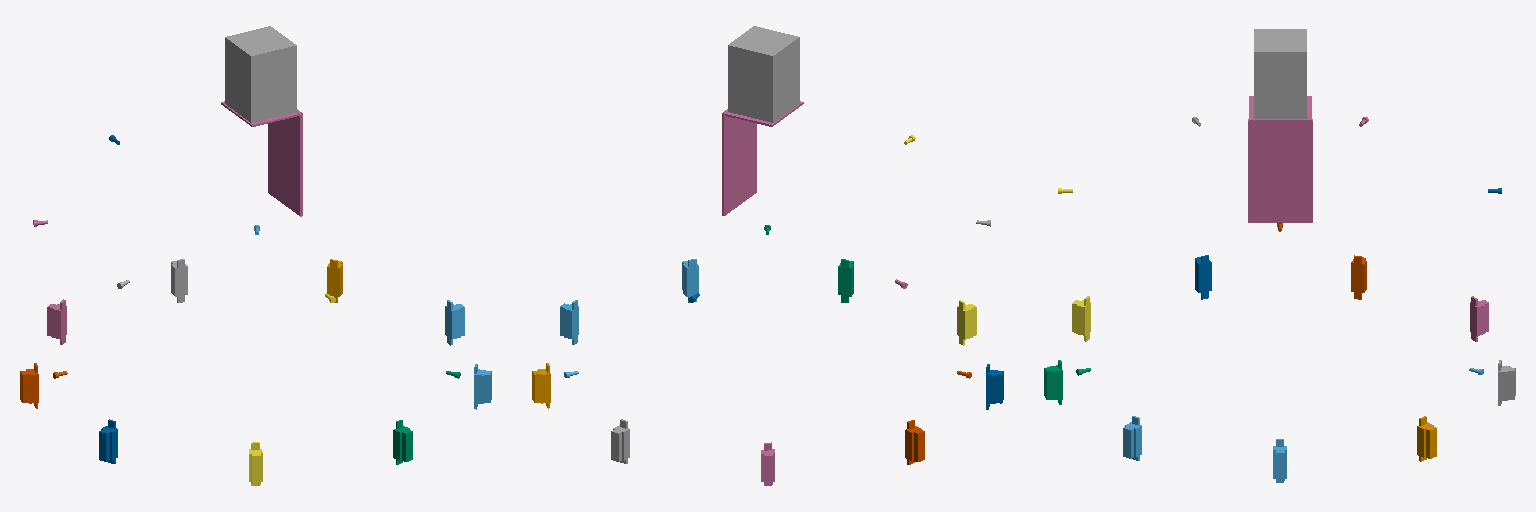
robot.urdf — [local-path]/Robotino3.urdf:
<?xml version="1.0"?>
<robot name="[local-path]/Robotino3.urdf" xmlns:xacro="http://ros.org/wiki/xacro">
  <link name="base_link">
    <visual>
      <origin xyz="0.01 0 0" rpy="0 0 1.5708"/>
      <geometry>
        <mesh filename="package://rto_description/meshes/parts/robotino_base.dae" scale="0.01 0.01 0.01"/>
      </geometry>
    </visual>
    <collision>
      <origin xyz="0 0 0.153" rpy="0 0 0"/>
      <geometry>
        <cylinder radius="0.2266" length="0.276"/>
      </geometry>
    </collision>
  </link>
  <link name="cap screw(6)">
    <visual>
      <origin xyz="0.005 0 0" rpy="3.141593 1.570793 3.141593"/>
      <geometry>
        <cylinder radius="0.0018" length="0.01"/>
      </geometry>
    </visual>
    <collision>
      <origin xyz="0.005 0 0" rpy="3.141593 1.570793 3.141593"/>
      <geometry>
        <cylinder radius="0.0018" length="0.01"/>
      </geometry>
    </collision>
    <visual>
      <origin xyz="-0.0018 0 0" rpy="3.141593 1.570793 3.141593"/>
      <geometry>
        <cylinder radius="0.003" length="0.0036"/>
      </geometry>
    </visual>
    <collision>
      <origin xyz="-0.0018 0 0" rpy="3.141593 1.570793 3.141593"/>
      <geometry>
        <cylinder radius="0.003" length="0.0036"/>
      </geometry>
    </collision>
  </link>
  <joint name="base_link_cap screw(6)_joint" type="fixed">
    <parent link="base_link"/>
    <child link="cap screw(6)"/>
    <origin xyz="0.1097 0.189 0.092" rpy="0.000008 -0.000002 -2.094393"/>
  </joint>
  <link name="cap screw(5)">
    <visual>
      <origin xyz="0.005 0 0" rpy="3.141593 1.570793 3.141593"/>
      <geometry>
        <cylinder radius="0.0018" length="0.01"/>
      </geometry>
    </visual>
    <collision>
      <origin xyz="0.005 0 0" rpy="3.141593 1.570793 3.141593"/>
      <geometry>
        <cylinder radius="0.0018" length="0.01"/>
      </geometry>
    </collision>
    <visual>
      <origin xyz="-0.0018 0 0" rpy="3.141593 1.570793 3.141593"/>
      <geometry>
        <cylinder radius="0.003" length="0.0036"/>
      </geometry>
    </visual>
    <collision>
      <origin xyz="-0.0018 0 0" rpy="3.141593 1.570793 3.141593"/>
      <geometry>
        <cylinder radius="0.003" length="0.0036"/>
      </geometry>
    </collision>
  </link>
  <joint name="base_link_cap screw(5)_joint" type="fixed">
    <parent link="base_link"/>
    <child link="cap screw(5)"/>
    <origin xyz="0.1097 -0.189 0.092" rpy="0.000002 0.000003 2.094393"/>
  </joint>
  <link name="cap screw(4)">
    <visual>
      <origin xyz="0.005 0 0" rpy="3.141593 1.570793 3.141593"/>
      <geometry>
        <cylinder radius="0.0018" length="0.01"/>
      </geometry>
    </visual>
    <collision>
      <origin xyz="0.005 0 0" rpy="3.141593 1.570793 3.141593"/>
      <geometry>
        <cylinder radius="0.0018" length="0.01"/>
      </geometry>
    </collision>
    <visual>
      <origin xyz="-0.0018 0 0" rpy="3.141593 1.570793 3.141593"/>
      <geometry>
        <cylinder radius="0.003" length="0.0036"/>
      </geometry>
    </visual>
    <collision>
      <origin xyz="-0.0018 0 0" rpy="3.141593 1.570793 3.141593"/>
      <geometry>
        <cylinder radius="0.003" length="0.0036"/>
      </geometry>
    </collision>
  </link>
  <joint name="base_link_cap screw(4)_joint" type="fixed">
    <parent link="base_link"/>
    <child link="cap screw(4)"/>
    <origin xyz="-0.0372 -0.207 0.213" rpy="0 0 1.570796"/>
  </joint>
  <link name="cap screw(3)">
    <visual>
      <origin xyz="0.005 0 0" rpy="3.141593 1.570793 3.141593"/>
      <geometry>
        <cylinder radius="0.0018" length="0.01"/>
      </geometry>
    </visual>
    <collision>
      <origin xyz="0.005 0 0" rpy="3.141593 1.570793 3.141593"/>
      <geometry>
        <cylinder radius="0.0018" length="0.01"/>
      </geometry>
    </collision>
    <visual>
      <origin xyz="-0.0018 0 0" rpy="3.141593 1.570793 3.141593"/>
      <geometry>
        <cylinder radius="0.003" length="0.0036"/>
      </geometry>
    </visual>
    <collision>
      <origin xyz="-0.0018 0 0" rpy="3.141593 1.570793 3.141593"/>
      <geometry>
        <cylinder radius="0.003" length="0.0036"/>
      </geometry>
    </collision>
  </link>
  <joint name="base_link_cap screw(3)_joint" type="fixed">
    <parent link="base_link"/>
    <child link="cap screw(3)"/>
    <origin xyz="-0.0372 0.207 0.213" rpy="3.141593 0.000008 -1.570796"/>
  </joint>
  <link name="cap screw(2)">
    <visual>
      <origin xyz="0.005 0 0" rpy="3.141593 1.570793 3.141593"/>
      <geometry>
        <cylinder radius="0.0018" length="0.01"/>
      </geometry>
    </visual>
    <collision>
      <origin xyz="0.005 0 0" rpy="3.141593 1.570793 3.141593"/>
      <geometry>
        <cylinder radius="0.0018" length="0.01"/>
      </geometry>
    </collision>
    <visual>
      <origin xyz="-0.0018 0 0" rpy="3.141593 1.570793 3.141593"/>
      <geometry>
        <cylinder radius="0.003" length="0.0036"/>
      </geometry>
    </visual>
    <collision>
      <origin xyz="-0.0018 0 0" rpy="3.141593 1.570793 3.141593"/>
      <geometry>
        <cylinder radius="0.003" length="0.0036"/>
      </geometry>
    </collision>
  </link>
  <joint name="base_link_cap screw(2)_joint" type="fixed">
    <parent link="base_link"/>
    <child link="cap screw(2)"/>
    <origin xyz="-0.2183 0 0.092" rpy="1.570796 0.000003 -0.000003"/>
  </joint>
  <link name="cap screw(1)">
    <visual>
      <origin xyz="0.005 0 0" rpy="3.141593 1.570793 3.141593"/>
      <geometry>
        <cylinder radius="0.0018" length="0.01"/>
      </geometry>
    </visual>
    <collision>
      <origin xyz="0.005 0 0" rpy="3.141593 1.570793 3.141593"/>
      <geometry>
        <cylinder radius="0.0018" length="0.01"/>
      </geometry>
    </collision>
    <visual>
      <origin xyz="-0.0018 0 0" rpy="3.141593 1.570793 3.141593"/>
      <geometry>
        <cylinder radius="0.003" length="0.0036"/>
      </geometry>
    </visual>
    <collision>
      <origin xyz="-0.0018 0 0" rpy="3.141593 1.570793 3.141593"/>
      <geometry>
        <cylinder radius="0.003" length="0.0036"/>
      </geometry>
    </collision>
  </link>
  <joint name="base_link_cap screw(1)_joint" type="fixed">
    <parent link="base_link"/>
    <child link="cap screw(1)"/>
    <origin xyz="-0.194 0.08 0.213" rpy="-1.662276 -0.01634 -0.353273"/>
  </joint>
  <link name="cap screw">
    <visual>
      <origin xyz="0.005 0 0" rpy="3.141593 1.570793 3.141593"/>
      <geometry>
        <cylinder radius="0.0018" length="0.01"/>
      </geometry>
    </visual>
    <collision>
      <origin xyz="0.005 0 0" rpy="3.141593 1.570793 3.141593"/>
      <geometry>
        <cylinder radius="0.0018" length="0.01"/>
      </geometry>
    </collision>
    <visual>
      <origin xyz="-0.0018 0 0" rpy="3.141593 1.570793 3.141593"/>
      <geometry>
        <cylinder radius="0.003" length="0.0036"/>
      </geometry>
    </visual>
    <collision>
      <origin xyz="-0.0018 0 0" rpy="3.141593 1.570793 3.141593"/>
      <geometry>
        <cylinder radius="0.003" length="0.0036"/>
      </geometry>
    </collision>
  </link>
  <joint name="base_link_cap screw_joint" type="fixed">
    <parent link="base_link"/>
    <child link="cap screw"/>
    <origin xyz="-0.194 -0.08 0.213" rpy="-1.479317 -0.01634 0.35328"/>
  </joint>
  <link name="touch sensor">
  </link>
  <joint name="base_link_touch sensor_joint" type="fixed">
    <parent link="base_link"/>
    <child link="touch sensor"/>
    <origin xyz="0 0 0.035" rpy="0 0 1.570796"/>
  </joint>
  <link name="ir9">
    <visual>
      <origin xyz="-0.0052 -0.0102 0" rpy="0 0 0"/>
      <geometry>
        <box size="0.01 0.03 0.0087"/>
      </geometry>
    </visual>
    <collision>
      <origin xyz="-0.0052 -0.0102 0" rpy="0 0 0"/>
      <geometry>
        <box size="0.01 0.03 0.0087"/>
      </geometry>
    </collision>
    <visual>
      <origin xyz="-0.0109 -0.0102 0" rpy="0 0 0"/>
      <geometry>
        <box size="0.0094 0.03 0.0131"/>
      </geometry>
    </visual>
    <collision>
      <origin xyz="-0.0109 -0.0102 0" rpy="0 0 0"/>
      <geometry>
        <box size="0.0094 0.03 0.0131"/>
      </geometry>
    </collision>
    <visual>
      <origin xyz="-0.0144 -0.0102 0" rpy="0 0 0"/>
      <geometry>
        <box size="0.0023 0.0445 0.0077"/>
      </geometry>
    </visual>
    <collision>
      <origin xyz="-0.0144 -0.0102 0" rpy="0 0 0"/>
      <geometry>
        <box size="0.0023 0.0445 0.0077"/>
      </geometry>
    </collision>
  </link>
  <joint name="base_link_ir9_joint" type="fixed">
    <parent link="base_link"/>
    <child link="ir9"/>
    <origin xyz="0.1735 -0.1455 0.0566" rpy="1.570796 0 -0.639973"/>
  </joint>
  <link name="ir8">
    <visual>
      <origin xyz="-0.0052 -0.0102 0" rpy="0 0 0"/>
      <geometry>
        <box size="0.01 0.03 0.0087"/>
      </geometry>
    </visual>
    <collision>
      <origin xyz="-0.0052 -0.0102 0" rpy="0 0 0"/>
      <geometry>
        <box size="0.01 0.03 0.0087"/>
      </geometry>
    </collision>
    <visual>
      <origin xyz="-0.0109 -0.0102 0" rpy="0 0 0"/>
      <geometry>
        <box size="0.0094 0.03 0.0131"/>
      </geometry>
    </visual>
    <collision>
      <origin xyz="-0.0109 -0.0102 0" rpy="0 0 0"/>
      <geometry>
        <box size="0.0094 0.03 0.0131"/>
      </geometry>
    </collision>
    <visual>
      <origin xyz="-0.0144 -0.0102 0" rpy="0 0 0"/>
      <geometry>
        <box size="0.0023 0.0445 0.0077"/>
      </geometry>
    </visual>
    <collision>
      <origin xyz="-0.0144 -0.0102 0" rpy="0 0 0"/>
      <geometry>
        <box size="0.0023 0.0445 0.0077"/>
      </geometry>
    </collision>
  </link>
  <joint name="base_link_ir8_joint" type="fixed">
    <parent link="base_link"/>
    <child link="ir8"/>
    <origin xyz="0.0394 -0.2229 0.0566" rpy="1.570796 0 -1.3381"/>
  </joint>
  <link name="ir7">
    <visual>
      <origin xyz="-0.0052 -0.0102 0" rpy="0 0 0"/>
      <geometry>
        <box size="0.01 0.03 0.0087"/>
      </geometry>
    </visual>
    <collision>
      <origin xyz="-0.0052 -0.0102 0" rpy="0 0 0"/>
      <geometry>
        <box size="0.01 0.03 0.0087"/>
      </geometry>
    </collision>
    <visual>
      <origin xyz="-0.0109 -0.0102 0" rpy="0 0 0"/>
      <geometry>
        <box size="0.0094 0.03 0.0131"/>
      </geometry>
    </visual>
    <collision>
      <origin xyz="-0.0109 -0.0102 0" rpy="0 0 0"/>
      <geometry>
        <box size="0.0094 0.03 0.0131"/>
      </geometry>
    </collision>
    <visual>
      <origin xyz="-0.0144 -0.0102 0" rpy="0 0 0"/>
      <geometry>
        <box size="0.0023 0.0445 0.0077"/>
      </geometry>
    </visual>
    <collision>
      <origin xyz="-0.0144 -0.0102 0" rpy="0 0 0"/>
      <geometry>
        <box size="0.0023 0.0445 0.0077"/>
      </geometry>
    </collision>
  </link>
  <joint name="base_link_ir7_joint" type="fixed">
    <parent link="base_link"/>
    <child link="ir7"/>
    <origin xyz="-0.1133 -0.196 0.0566" rpy="1.570797 -0.000001 -2.036229"/>
  </joint>
  <link name="ir6">
    <visual>
      <origin xyz="-0.0052 -0.0102 0" rpy="0 0 0"/>
      <geometry>
        <box size="0.01 0.03 0.0087"/>
      </geometry>
    </visual>
    <collision>
      <origin xyz="-0.0052 -0.0102 0" rpy="0 0 0"/>
      <geometry>
        <box size="0.01 0.03 0.0087"/>
      </geometry>
    </collision>
    <visual>
      <origin xyz="-0.0109 -0.0102 0" rpy="0 0 0"/>
      <geometry>
        <box size="0.0094 0.03 0.0131"/>
      </geometry>
    </visual>
    <collision>
      <origin xyz="-0.0109 -0.0102 0" rpy="0 0 0"/>
      <geometry>
        <box size="0.0094 0.03 0.0131"/>
      </geometry>
    </collision>
    <visual>
      <origin xyz="-0.0144 -0.0102 0" rpy="0 0 0"/>
      <geometry>
        <box size="0.0023 0.0445 0.0077"/>
      </geometry>
    </visual>
    <collision>
      <origin xyz="-0.0144 -0.0102 0" rpy="0 0 0"/>
      <geometry>
        <box size="0.0023 0.0445 0.0077"/>
      </geometry>
    </collision>
  </link>
  <joint name="base_link_ir6_joint" type="fixed">
    <parent link="base_link"/>
    <child link="ir6"/>
    <origin xyz="-0.2133 -0.0772 0.0566" rpy="1.570796 0 -2.734369"/>
  </joint>
  <link name="ir5">
    <visual>
      <origin xyz="-0.0052 -0.0102 0" rpy="0 0 0"/>
      <geometry>
        <box size="0.01 0.03 0.0087"/>
      </geometry>
    </visual>
    <collision>
      <origin xyz="-0.0052 -0.0102 0" rpy="0 0 0"/>
      <geometry>
        <box size="0.01 0.03 0.0087"/>
      </geometry>
    </collision>
    <visual>
      <origin xyz="-0.0109 -0.0102 0" rpy="0 0 0"/>
      <geometry>
        <box size="0.0094 0.03 0.0131"/>
      </geometry>
    </visual>
    <collision>
      <origin xyz="-0.0109 -0.0102 0" rpy="0 0 0"/>
      <geometry>
        <box size="0.0094 0.03 0.0131"/>
      </geometry>
    </collision>
    <visual>
      <origin xyz="-0.0144 -0.0102 0" rpy="0 0 0"/>
      <geometry>
        <box size="0.0023 0.0445 0.0077"/>
      </geometry>
    </visual>
    <collision>
      <origin xyz="-0.0144 -0.0102 0" rpy="0 0 0"/>
      <geometry>
        <box size="0.0023 0.0445 0.0077"/>
      </geometry>
    </collision>
  </link>
  <joint name="base_link_ir5_joint" type="fixed">
    <parent link="base_link"/>
    <child link="ir5"/>
    <origin xyz="-0.2131 0.0777 0.0566" rpy="1.570796 0 2.850685"/>
  </joint>
  <link name="ir4">
    <visual>
      <origin xyz="-0.0052 -0.0102 0" rpy="0 0 0"/>
      <geometry>
        <box size="0.01 0.03 0.0087"/>
      </geometry>
    </visual>
    <collision>
      <origin xyz="-0.0052 -0.0102 0" rpy="0 0 0"/>
      <geometry>
        <box size="0.01 0.03 0.0087"/>
      </geometry>
    </collision>
    <visual>
      <origin xyz="-0.0109 -0.0102 0" rpy="0 0 0"/>
      <geometry>
        <box size="0.0094 0.03 0.0131"/>
      </geometry>
    </visual>
    <collision>
      <origin xyz="-0.0109 -0.0102 0" rpy="0 0 0"/>
      <geometry>
        <box size="0.0094 0.03 0.0131"/>
      </geometry>
    </collision>
    <visual>
      <origin xyz="-0.0144 -0.0102 0" rpy="0 0 0"/>
      <geometry>
        <box size="0.0023 0.0445 0.0077"/>
      </geometry>
    </visual>
    <collision>
      <origin xyz="-0.0144 -0.0102 0" rpy="0 0 0"/>
      <geometry>
        <box size="0.0023 0.0445 0.0077"/>
      </geometry>
    </collision>
  </link>
  <joint name="base_link_ir4_joint" type="fixed">
    <parent link="base_link"/>
    <child link="ir4"/>
    <origin xyz="-0.114 0.1963 0.0566" rpy="1.570796 0 2.152557"/>
  </joint>
  <link name="ir3">
    <visual>
      <origin xyz="-0.0052 -0.0102 0" rpy="0 0 0"/>
      <geometry>
        <box size="0.01 0.03 0.0087"/>
      </geometry>
    </visual>
    <collision>
      <origin xyz="-0.0052 -0.0102 0" rpy="0 0 0"/>
      <geometry>
        <box size="0.01 0.03 0.0087"/>
      </geometry>
    </collision>
    <visual>
      <origin xyz="-0.0109 -0.0102 0" rpy="0 0 0"/>
      <geometry>
        <box size="0.0094 0.03 0.0131"/>
      </geometry>
    </visual>
    <collision>
      <origin xyz="-0.0109 -0.0102 0" rpy="0 0 0"/>
      <geometry>
        <box size="0.0094 0.03 0.0131"/>
      </geometry>
    </collision>
    <visual>
      <origin xyz="-0.0144 -0.0102 0" rpy="0 0 0"/>
      <geometry>
        <box size="0.0023 0.0445 0.0077"/>
      </geometry>
    </visual>
    <collision>
      <origin xyz="-0.0144 -0.0102 0" rpy="0 0 0"/>
      <geometry>
        <box size="0.0023 0.0445 0.0077"/>
      </geometry>
    </collision>
  </link>
  <joint name="base_link_ir3_joint" type="fixed">
    <parent link="base_link"/>
    <child link="ir3"/>
    <origin xyz="0.0394 0.223 0.0566" rpy="1.570796 0 1.454421"/>
  </joint>
  <link name="ir2">
    <visual>
      <origin xyz="-0.0052 -0.0102 0" rpy="0 0 0"/>
      <geometry>
        <box size="0.01 0.03 0.0087"/>
      </geometry>
    </visual>
    <collision>
      <origin xyz="-0.0052 -0.0102 0" rpy="0 0 0"/>
      <geometry>
        <box size="0.01 0.03 0.0087"/>
      </geometry>
    </collision>
    <visual>
      <origin xyz="-0.0109 -0.0102 0" rpy="0 0 0"/>
      <geometry>
        <box size="0.0094 0.03 0.0131"/>
      </geometry>
    </visual>
    <collision>
      <origin xyz="-0.0109 -0.0102 0" rpy="0 0 0"/>
      <geometry>
        <box size="0.0094 0.03 0.0131"/>
      </geometry>
    </collision>
    <visual>
      <origin xyz="-0.0144 -0.0102 0" rpy="0 0 0"/>
      <geometry>
        <box size="0.0023 0.0445 0.0077"/>
      </geometry>
    </visual>
    <collision>
      <origin xyz="-0.0144 -0.0102 0" rpy="0 0 0"/>
      <geometry>
        <box size="0.0023 0.0445 0.0077"/>
      </geometry>
    </collision>
  </link>
  <joint name="base_link_ir2_joint" type="fixed">
    <parent link="base_link"/>
    <child link="ir2"/>
    <origin xyz="0.1736 0.1454 0.0566" rpy="1.570797 0 0.756286"/>
  </joint>
  <link name="ir1">
    <visual>
      <origin xyz="-0.0052 -0.0102 0" rpy="0 0 0"/>
      <geometry>
        <box size="0.01 0.03 0.0087"/>
      </geometry>
    </visual>
    <collision>
      <origin xyz="-0.0052 -0.0102 0" rpy="0 0 0"/>
      <geometry>
        <box size="0.01 0.03 0.0087"/>
      </geometry>
    </collision>
    <visual>
      <origin xyz="-0.0109 -0.0102 0" rpy="0 0 0"/>
      <geometry>
        <box size="0.0094 0.03 0.0131"/>
      </geometry>
    </visual>
    <collision>
      <origin xyz="-0.0109 -0.0102 0" rpy="0 0 0"/>
      <geometry>
        <box size="0.0094 0.03 0.0131"/>
      </geometry>
    </collision>
    <visual>
      <origin xyz="-0.0144 -0.0102 0" rpy="0 0 0"/>
      <geometry>
        <box size="0.0023 0.0445 0.0077"/>
      </geometry>
    </visual>
    <collision>
      <origin xyz="-0.0144 -0.0102 0" rpy="0 0 0"/>
      <geometry>
        <box size="0.0023 0.0445 0.0077"/>
      </geometry>
    </collision>
  </link>
  <joint name="base_link_ir1_joint" type="fixed">
    <parent link="base_link"/>
    <child link="ir1"/>
    <origin xyz="0.2264 0 0.0566" rpy="1.570797 0.000001 -0.000123"/>
  </joint>
  <link name="compass">
  </link>
  <joint name="base_link_compass_joint" type="fixed">
    <parent link="base_link"/>
    <child link="compass"/>
    <origin xyz="0 0 0" rpy="0 0 1.570796"/>
  </joint>
  <link name="gyro">
  </link>
  <joint name="base_link_gyro_joint" type="fixed">
    <parent link="base_link"/>
    <child link="gyro"/>
    <origin xyz="0 0 0" rpy="0 0 1.570796"/>
  </joint>
  <link name="inertial unit">
  </link>
  <joint name="base_link_inertial unit_joint" type="fixed">
    <parent link="base_link"/>
    <child link="inertial unit"/>
    <origin xyz="0 0 0" rpy="0 0 1.570796"/>
  </joint>
  <link name="accelerometer">
  </link>
  <joint name="base_link_accelerometer_joint" type="fixed">
    <parent link="base_link"/>
    <child link="accelerometer"/>
    <origin xyz="0 0 0" rpy="0 0 1.570796"/>
  </joint>
  <link name="Hokuyo mounting support for Robotino 3">
    <visual>
      <origin xyz="-0.027 0.03 0.106" rpy="0 0 0"/>
      <geometry>
        <box size="0.055 0.06 0.002"/>
      </geometry>
    </visual>
    <collision>
      <origin xyz="-0.027 0.03 0.106" rpy="0 0 0"/>
      <geometry>
        <box size="0.055 0.06 0.002"/>
      </geometry>
    </collision>
    <visual>
      <origin xyz="-0.001 0.03 0.053" rpy="0 0 0"/>
      <geometry>
        <box size="0.0028 0.062 0.107"/>
      </geometry>
    </visual>
    <collision>
      <origin xyz="-0.001 0.03 0.053" rpy="0 0 0"/>
      <geometry>
        <box size="0.0028 0.062 0.107"/>
      </geometry>
    </collision>
  </link>
  <joint name="base_link_Hokuyo mounting support for Robotino 3_joint" type="fixed">
    <parent link="base_link"/>
    <child link="Hokuyo mounting support for Robotino 3"/>
    <origin xyz="0.0328 -0.03 0.2128" rpy="0 0 -0.000004"/>
  </joint>
  <link name="Hokuyo URG-04LX-UG01">
    <visual>
      <origin xyz="0 0 -0.018" rpy="1.570741 0.000118 -1.570741"/>
      <geometry>
        <box size="0.05 0.07 0.05"/>
      </geometry>
    </visual>
    <collision>
      <origin xyz="0 0 -0.018" rpy="1.570741 0.000118 -1.570741"/>
      <geometry>
        <box size="0.05 0.07 0.05"/>
      </geometry>
    </collision>
  </link>
  <joint name="Hokuyo mounting support for Robotino 3_Hokuyo URG-04LX-UG01_joint" type="fixed">
    <parent link="Hokuyo mounting support for Robotino 3"/>
    <child link="Hokuyo URG-04LX-UG01"/>
    <origin xyz="-0.028 0.03 0.16" rpy="0 0 0"/>
  </joint>
  <joint name="wheel2_joint" type="continuous">
    <parent link="base_link"/>
    <child link="wheel2_link"/>
    <axis xyz="0 1 0"/>
    <limit effort="10" velocity="137.46"/>
    <origin xyz="0.0913 0.158136 0.05915" rpy="0 0 -0.523599"/>
  </joint>
  <link name="wheel2_link">
  <visual>
    <origin xyz="0 0 0" rpy="-1.570796 0 0"/>
    <geometry>
      <mesh filename="package://webots/projects/robots/festo/robotino3/protos/meshes/omni_wheel.dae"/>
    </geometry>
  </visual>
  <collision>
    <origin xyz="0 0 0" rpy="-1.570796 0 0"/>
    <geometry>
      <mesh filename="package://webots/projects/robots/festo/robotino3/protos/meshes/omni_wheel.dae"/>
    </geometry>
  </collision>
</link>
  <joint name="wheel1_joint" type="continuous">
    <parent link="base_link"/>
    <child link="wheel1_link"/>
    <axis xyz="0 1 0"/>
    <limit effort="10" velocity="137.46"/>
    <origin xyz="0.0913 -0.158136 0.05915" rpy="0 0 -2.617994"/>
  </joint>
  <link name="wheel1_link">
  <visual>
    <origin xyz="0 0 0" rpy="-1.570796 0 0"/>
    <geometry>
      <mesh filename="package://webots/projects/robots/festo/robotino3/protos/meshes/omni_wheel.dae"/>
    </geometry>
  </visual>
  <collision>
    <origin xyz="0 0 0" rpy="-1.570796 0 0"/>
    <geometry>
      <mesh filename="package://webots/projects/robots/festo/robotino3/protos/meshes/omni_wheel.dae"/>
    </geometry>
  </collision>
</link>
  <joint name="wheel0_joint" type="continuous">
    <parent link="base_link"/>
    <child link="wheel0_link"/>
    <axis xyz="0 1 0"/>
    <limit effort="10" velocity="137.46"/>
    <origin xyz="-0.1826 0 0.05915" rpy="0 0 1.570796"/>
  </joint>
<link name="wheel0_link">
  <visual>
    <origin xyz="0 0 0" rpy="-1.570796 0 0"/>  <!-- KEEP THIS ROTATION! -->
    <geometry>
      <mesh filename="package://webots/projects/robets/festo/robotino3/protos/meshes/omni_wheel.dae"/>
    </geometry>
  </visual>
  <collision>
    <origin xyz="0 0 0" rpy="-1.570796 0 0"/>  <!-- KEEP THIS ROTATION! -->
    <geometry>
      <mesh filename="package://webots/projects/robots/festo/robotino3/protos/meshes/omni_wheel.dae"/>
    </geometry>
  </collision>
</link>

<!-- Connect base_footprint to base_link -->
<link name="base_footprint"/>

<joint name="base_footprint_to_base_link" type="fixed">
  <parent link="base_footprint"/>
  <child link="base_link"/>
  <origin xyz="0 0 0" rpy="0 0 0"/>
</joint>

</robot>

--- Facts derived from the render (not from the file) ---
Views: 3 orthographic renders of the robot side by side, from view 1: azimuth 30°, elevation 25°; view 2: azimuth 150°, elevation 25°; view 3: azimuth 270°, elevation 25°.
Robot: [local-path]/Robotino3.urdf — 28 links, 27 joints (3 continuous, 24 fixed); root link base_footprint; default pose: every joint at zero.
Links seen in each view (by area): view 1: Hokuyo URG-04LX-UG01, Hokuyo mounting support for Robotino 3, ir8, ir4, ir1, ir6, ir5, ir3, ir9, ir2, ir7; view 2: Hokuyo URG-04LX-UG01, Hokuyo mounting support for Robotino 3, ir5, ir7, ir3, ir1, ir2, ir6, ir8, ir9, ir4; view 3: Hokuyo mounting support for Robotino 3, Hokuyo URG-04LX-UG01, ir2, ir9, ir4, ir7, ir8, ir6, ir3, ir5, ir1.
Link boxes in pixels (x1=…): Hokuyo URG-04LX-UG01: x1=225, y1=26, x2=296, y2=122; Hokuyo mounting support for Robotino 3: x1=221, y1=101, x2=302, y2=216; ir8: x1=393, y1=420, x2=412, y2=464; ir4: x1=47, y1=299, x2=66, y2=344; ir1: x1=445, y1=300, x2=464, y2=345; ir6: x1=99, y1=419, x2=117, y2=463; ir5: x1=20, y1=363, x2=38, y2=408; ir3: x1=171, y1=259, x2=187, y2=302; ir9: x1=474, y1=364, x2=491, y2=409; ir2: x1=327, y1=259, x2=342, y2=302; ir7: x1=249, y1=442, x2=262, y2=485; Hokuyo URG-04LX-UG01: x1=728, y1=26, x2=799, y2=122; Hokuyo mounting support for Robotino 3: x1=722, y1=101, x2=803, y2=215; ir5: x1=905, y1=420, x2=924, y2=464; ir7: x1=957, y1=300, x2=976, y2=345; ir3: x1=611, y1=419, x2=629, y2=463; ir1: x1=560, y1=300, x2=578, y2=344; ir2: x1=532, y1=363, x2=550, y2=408; ir6: x1=986, y1=364, x2=1003, y2=409; ir8: x1=838, y1=259, x2=853, y2=302; ir9: x1=682, y1=259, x2=698, y2=302; ir4: x1=761, y1=442, x2=774, y2=485; Hokuyo mounting support for Robotino 3: x1=1248, y1=96, x2=1312, y2=222; Hokuyo URG-04LX-UG01: x1=1254, y1=29, x2=1306, y2=118; ir2: x1=1417, y1=416, x2=1436, y2=461; ir9: x1=1123, y1=416, x2=1141, y2=460; ir4: x1=1470, y1=296, x2=1488, y2=341; ir7: x1=1072, y1=296, x2=1090, y2=341; ir8: x1=1044, y1=360, x2=1062, y2=404; ir6: x1=1195, y1=255, x2=1211, y2=299; ir3: x1=1498, y1=360, x2=1515, y2=405; ir5: x1=1351, y1=255, x2=1366, y2=299; ir1: x1=1273, y1=439, x2=1286, y2=482.
Size in the robot's own frame: 0.4481 by 0.447 by 0.3657 metres.
0 mesh visuals loaded from 3 distinct referenced files (none loaded); not drawn: 3 (reference not matched to a file when rendering), 1 (file found but could not be loaded).
